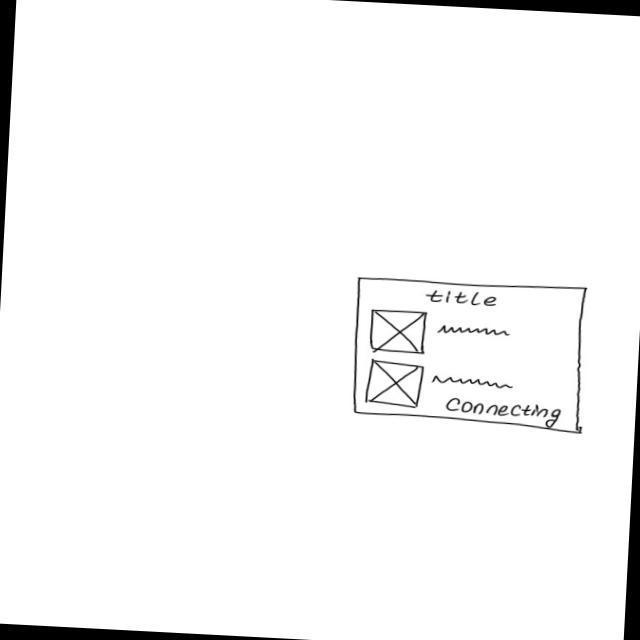container: (350, 276, 593, 437)
image: (365, 359, 427, 411), (369, 309, 430, 357)
label: (444, 398, 563, 430), (425, 288, 500, 309)
text: (431, 376, 517, 391), (436, 324, 513, 339)
